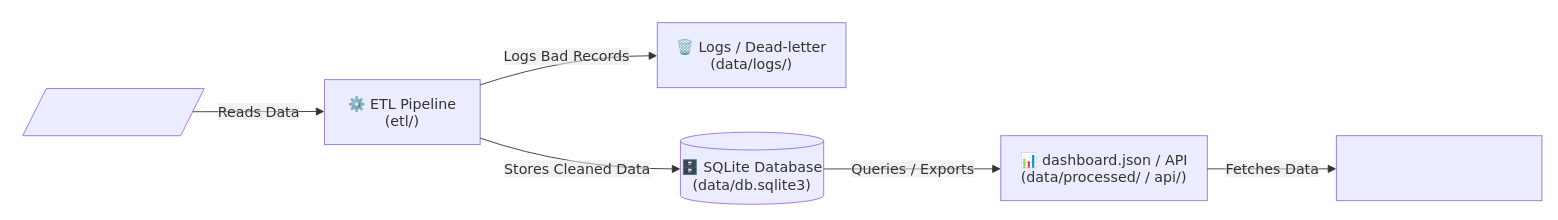
This 1558x220 diagram has some shape labels left out. Here are the shapes that lost their labels. From the top down, the box of each, then its label:
(22, 88, 204, 136): 📄 XML File (data/raw/momo.xml)
(1335, 135, 1542, 201): 🖥️ Frontend Dashboard (index.html + web/)
